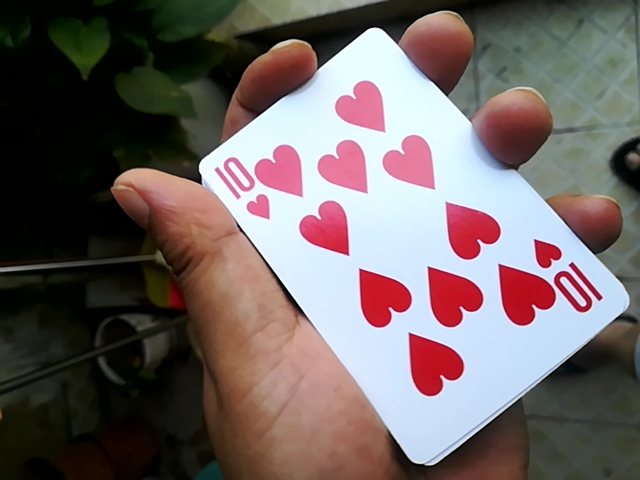hx 10: (191, 26, 625, 464)
